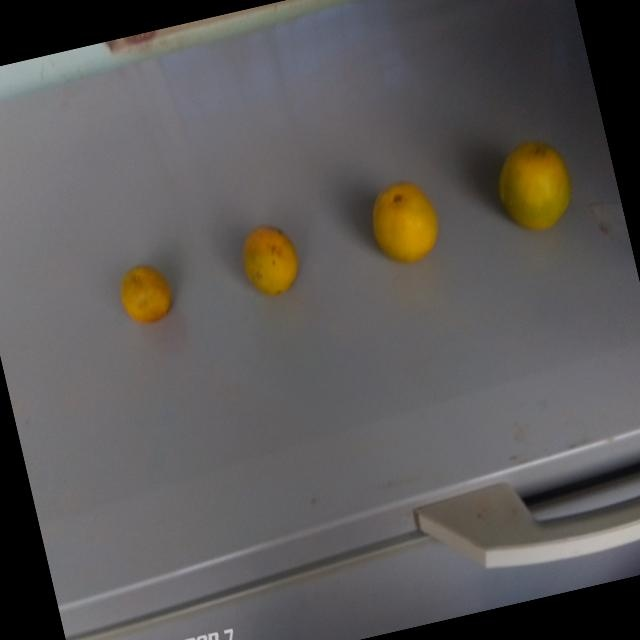agrume: (488, 135, 579, 243), (357, 172, 455, 272), (220, 212, 308, 307), (113, 253, 192, 338)
